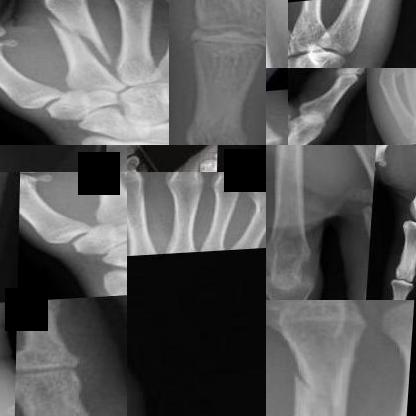fracture: (279, 354, 375, 415), (33, 7, 118, 69), (183, 0, 265, 44), (71, 172, 126, 205), (371, 68, 407, 97), (242, 207, 265, 252)
